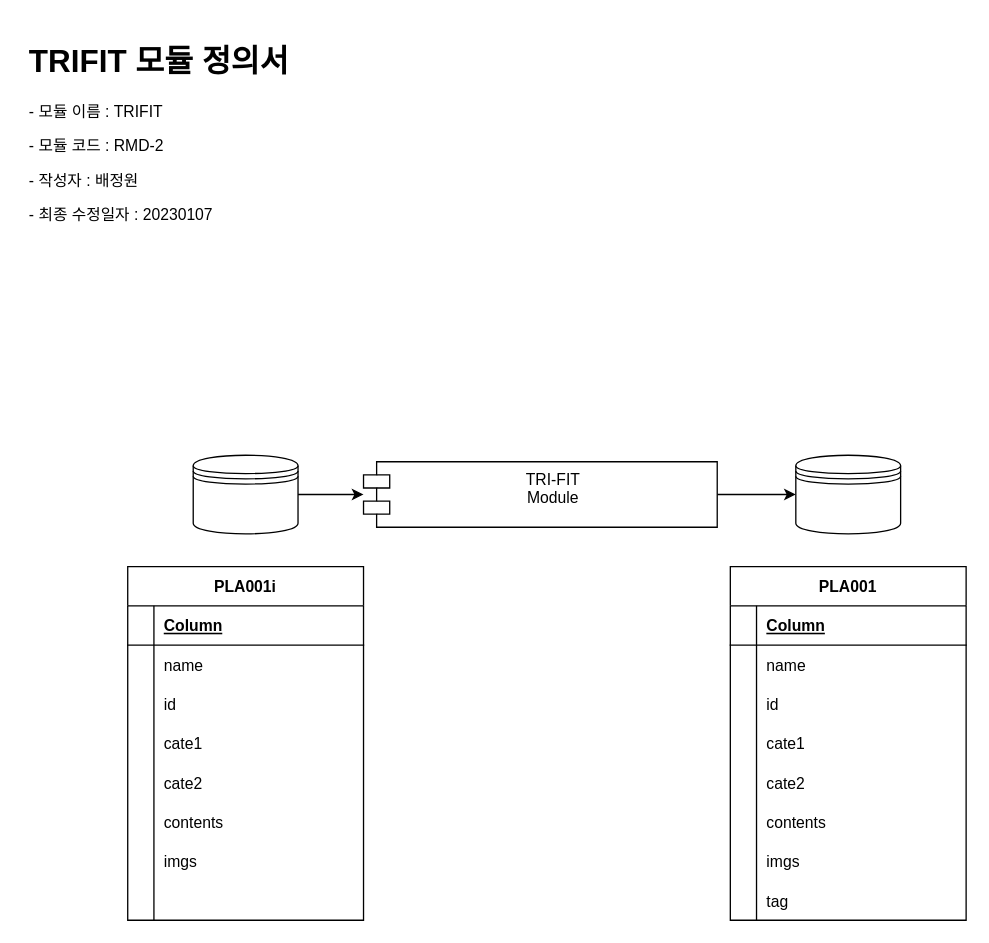
Some shapes in this 989 by 943 pixel diagram are drawn without their labels. Here are the shapes that lost their labels. From the top down, the centre of each, then its label:
At point (245, 494): "Input Data".
At point (848, 494): "Output Data".
